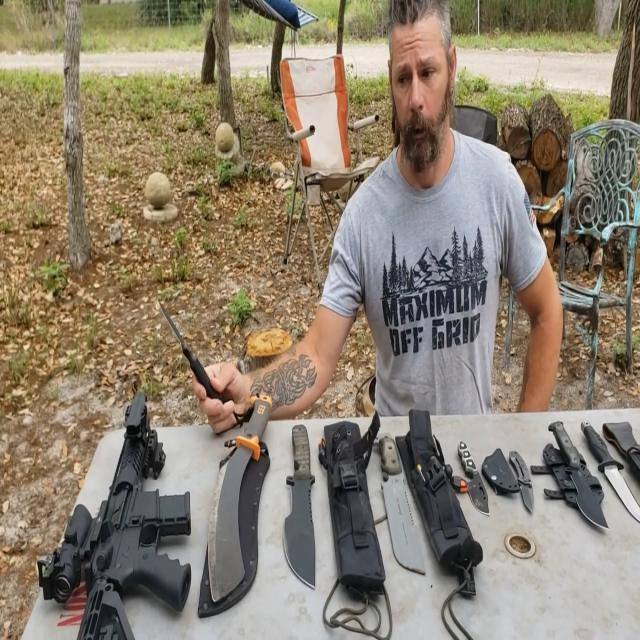knife: (202, 381, 272, 604), (366, 411, 438, 590), (542, 399, 608, 539), (572, 409, 640, 536), (162, 278, 224, 417), (280, 407, 323, 594), (448, 426, 501, 542), (498, 424, 546, 516)
long weapon: (34, 359, 202, 639)
